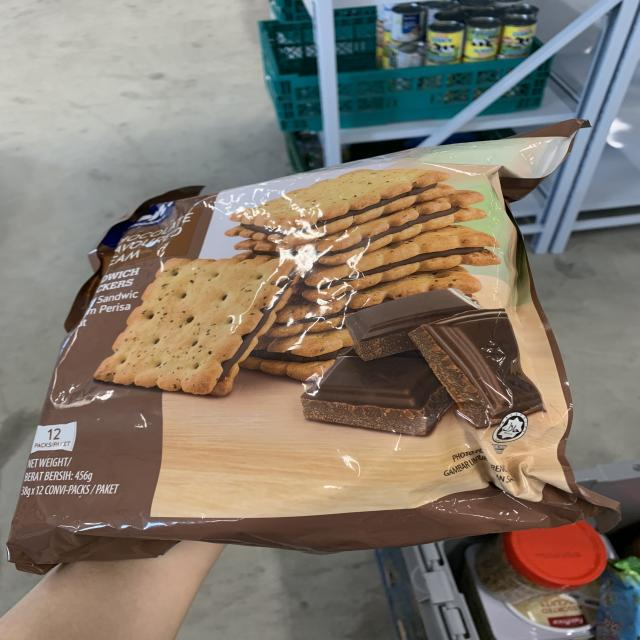object_name: (37, 176, 539, 526)
